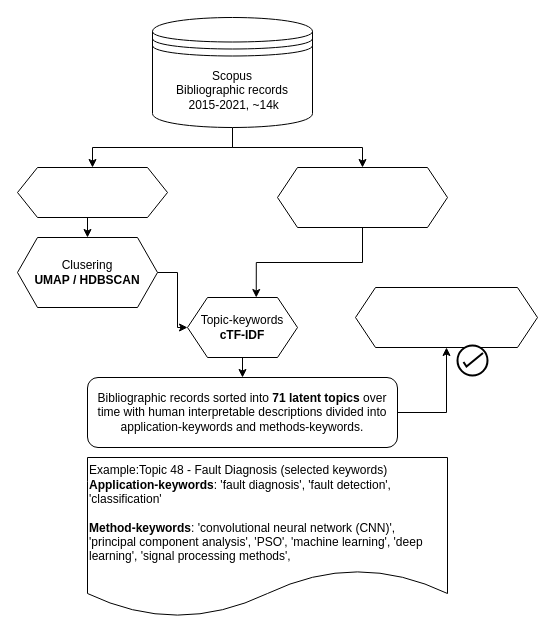
Image size: 555x635. Some labels were removed from this diagram. Each missing label, with the centre of its shape:
"Abstract Embedding SPECTER" goes at pixel 92 192.
"Manual selection of relevant topics and real-world case descriptions" goes at pixel 446 317.
"Named Entity Extraction SciBERT / SCI-ERC" goes at pixel 362 197.
